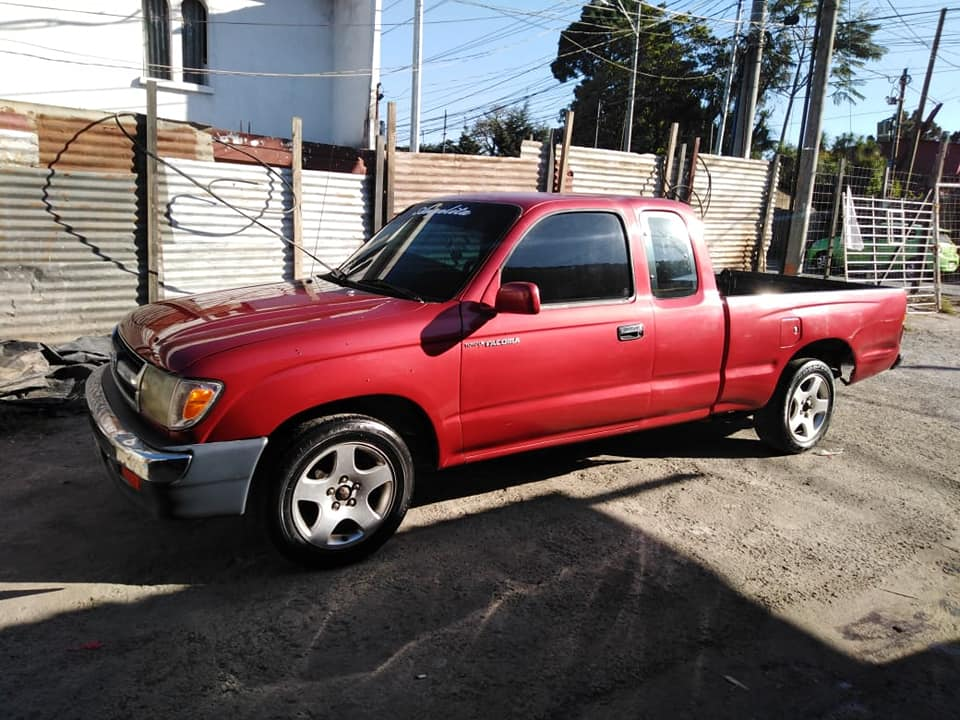pickup: (86, 193, 909, 507)
